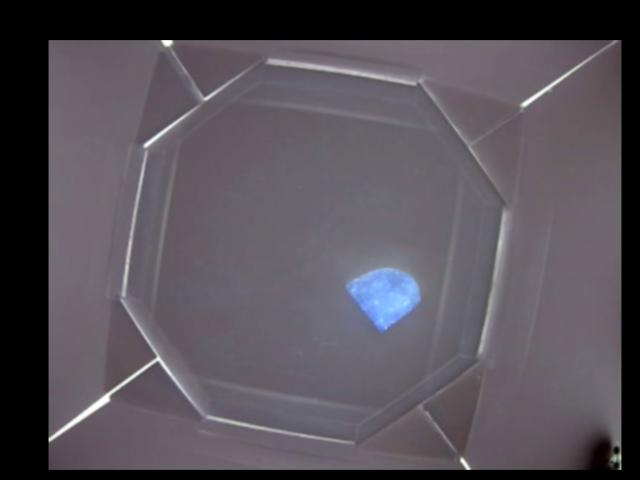Potato: (346, 265, 419, 329)
